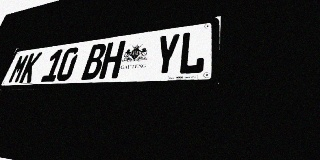0: (55, 47, 80, 81)
1: (40, 49, 66, 82)
B: (81, 43, 108, 80)
H: (98, 40, 126, 79)
K: (18, 52, 43, 83)
L: (177, 29, 207, 75)
M: (7, 53, 31, 84)
Y: (152, 33, 181, 76)
